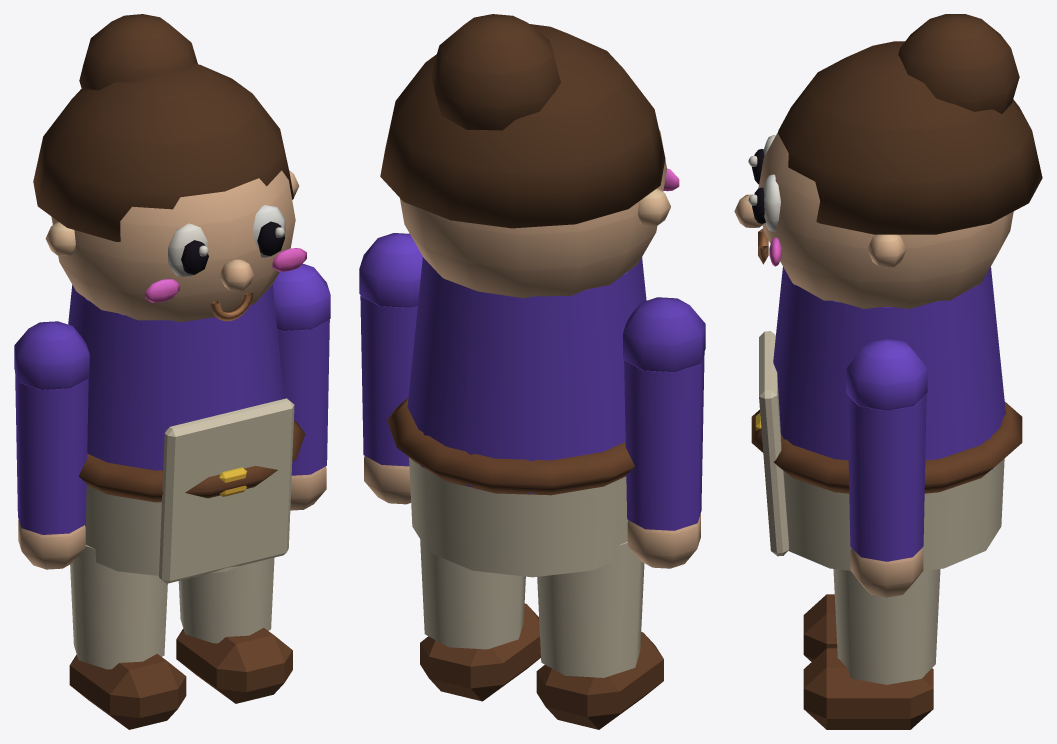
File: villager_citizen.glb
3 views of the same model, side by side, from view 1: azimuth 30°, elevation 25°; view 2: azimuth 150°, elevation 25°; view 3: azimuth 270°, elevation 25° (orthographic). The views are drawn at different scales.
Visible parts, largest first — view 1: body_t0_palette, arml_t0_palette, legl_t0_palette, legr_t0_palette, armr_t0_palette; view 2: body_t0_palette, arml_t0_palette, legl_t0_palette, legr_t0_palette, armr_t0_palette; view 3: body_t0_palette, armr_t0_palette, legr_t0_palette, legl_t0_palette.
Boxes of the visible parts, <box> form: body_t0_palette: <box>33,14,306,583</box>; arml_t0_palette: <box>14,321,89,569</box>; legl_t0_palette: <box>69,545,186,729</box>; legr_t0_palette: <box>176,557,292,703</box>; armr_t0_palette: <box>272,263,330,510</box>; body_t0_palette: <box>380,14,679,577</box>; arml_t0_palette: <box>623,297,705,568</box>; legl_t0_palette: <box>536,542,663,729</box>; legr_t0_palette: <box>420,539,540,701</box>; armr_t0_palette: <box>359,233,422,504</box>; body_t0_palette: <box>734,14,1042,570</box>; armr_t0_palette: <box>846,338,927,597</box>; legr_t0_palette: <box>803,569,940,729</box>; legl_t0_palette: <box>803,594,837,661</box>.
Bounding box in the file's own units: 0.2433 × 0.4875 × 0.202.
